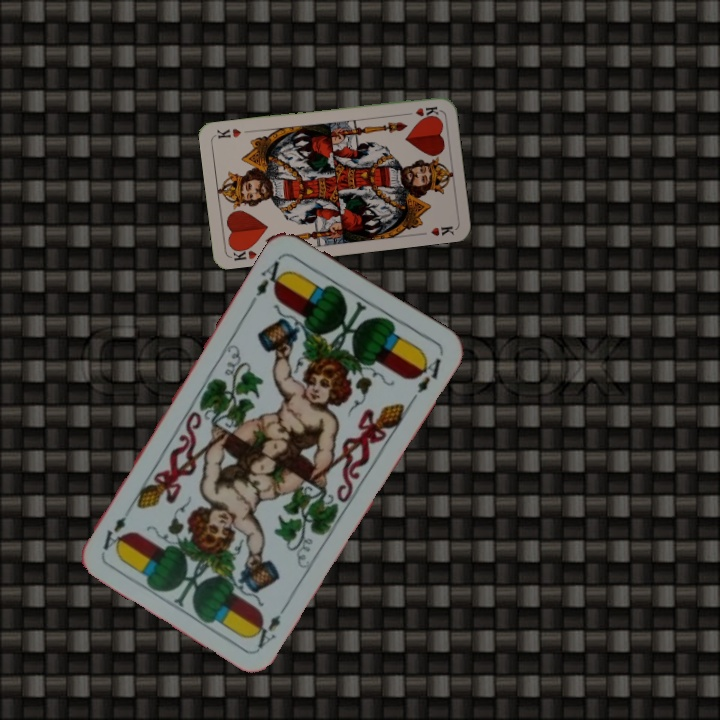EA: (247, 252, 289, 306), (249, 598, 291, 651)
HK: (227, 242, 259, 263), (400, 103, 440, 119)
